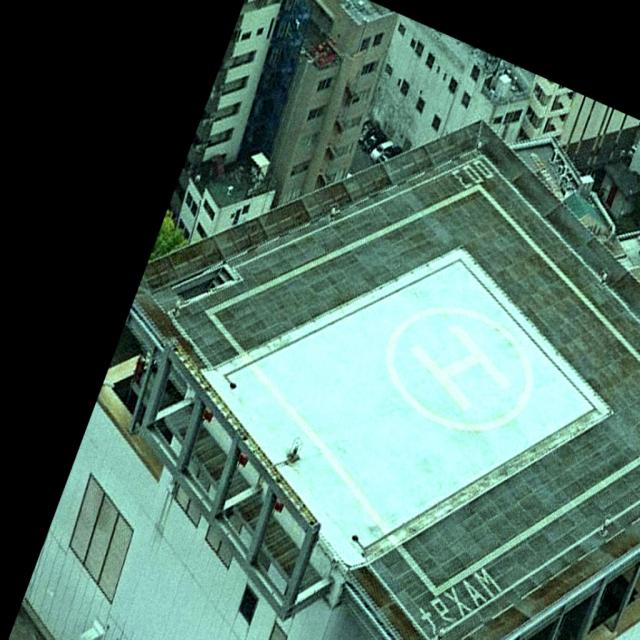helipad: (378, 300, 538, 436)
